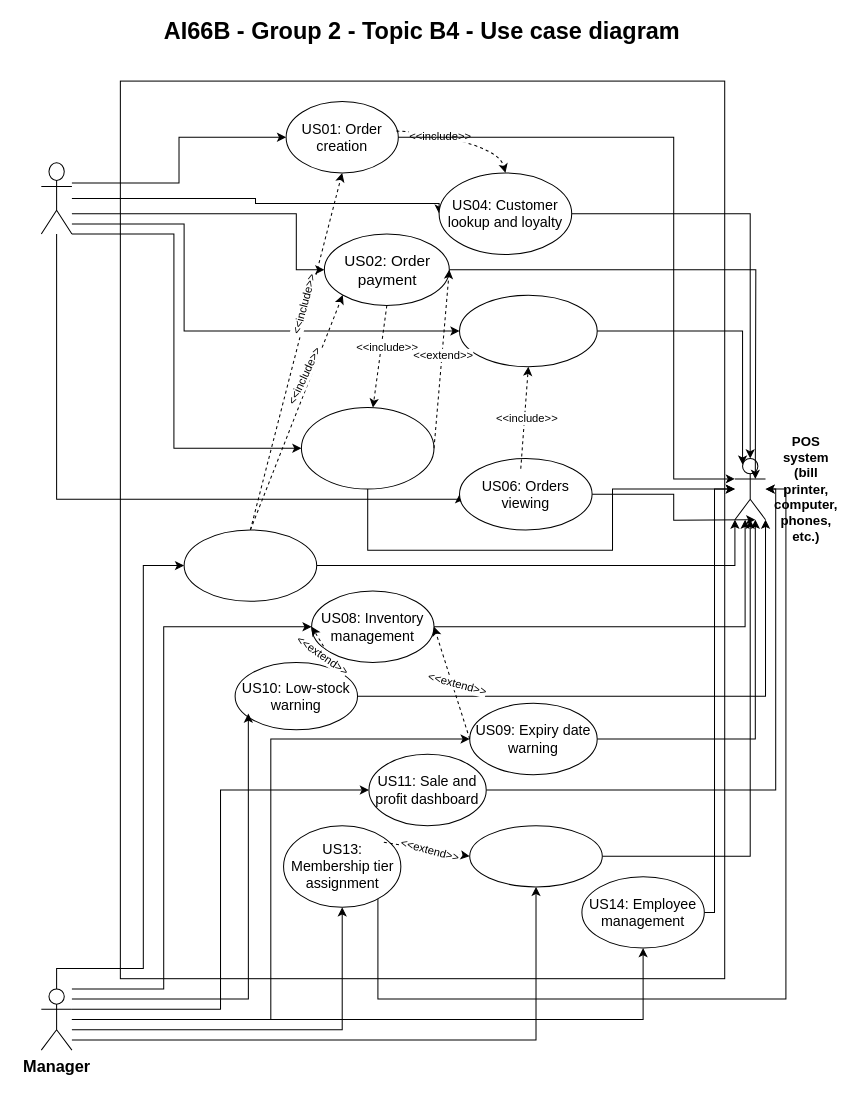
The diagram is 855 pixels wide and 1094 high, and some of its shapes have lost their labels. The centre of each missing label's shape, as x and y in pixels:
"Employee" belongs at pixel 56 198.
"US03: Order history" belongs at pixel 527 330.
"US05: Receipt printing" belongs at pixel 367 447.
"US07: Order management" belongs at pixel 250 565.
"US12: Customer management" belongs at pixel 535 856.
